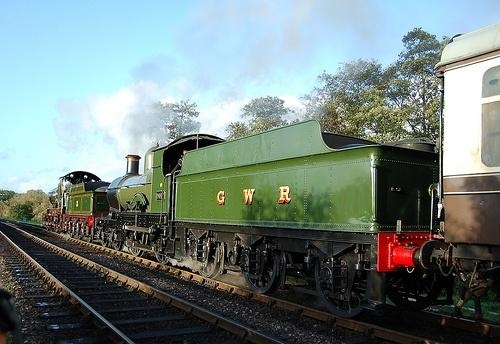train: (43, 20, 500, 341)
